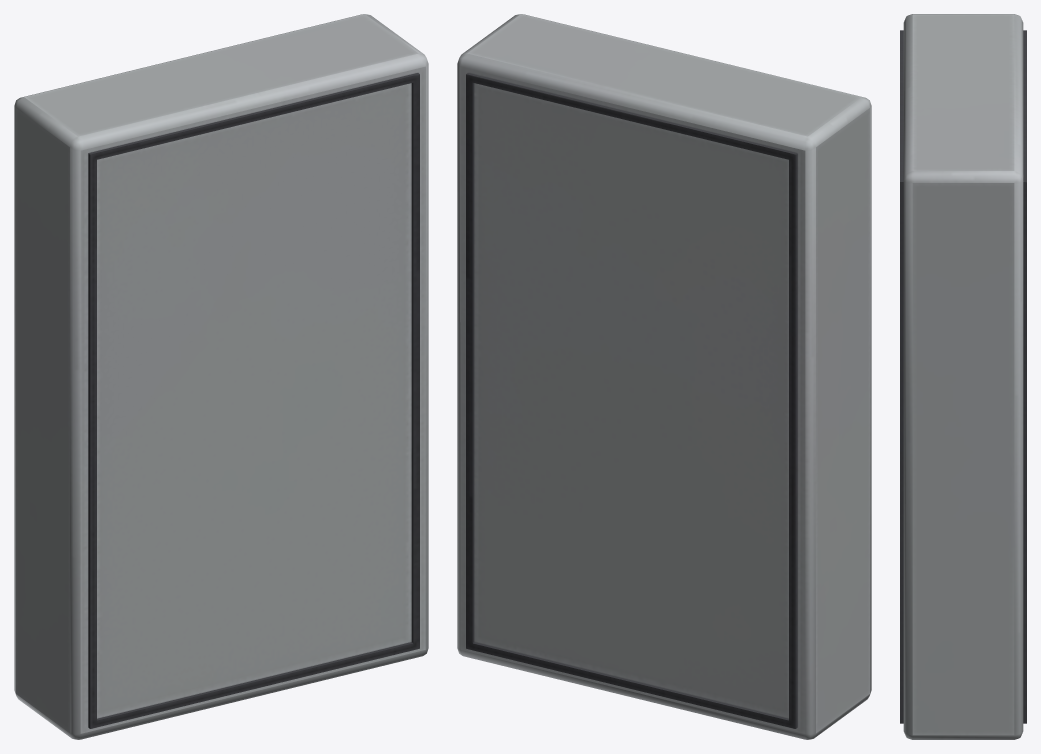
The model's file is AT_AUGMag.fbx.
The picture shows the model from 3 angles, left to right: view 1: azimuth 30°, elevation 25°; view 2: azimuth 150°, elevation 25°; view 3: azimuth 270°, elevation 25°; orthographic projection. The views are drawn at different scales.
Parts seen in each view (by area): view 1: AT_AUGMag; view 2: AT_AUGMag; view 3: AT_AUGMag.
Boxes of the visible parts, x1=… form: AT_AUGMag: x1=14, y1=14, x2=428, y2=739; AT_AUGMag: x1=457, y1=14, x2=871, y2=739; AT_AUGMag: x1=900, y1=14, x2=1026, y2=739.
Bounding box in the file's own units: 0.065 × 0.1048 × 0.0212.
1 material, 1 textured.
